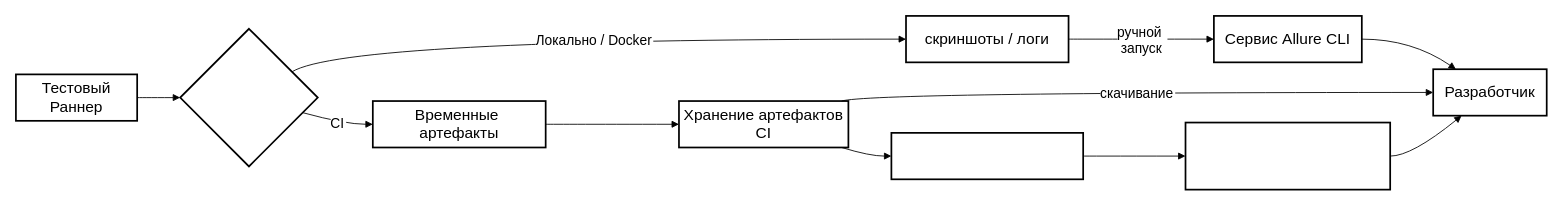
The diagram is 1562 pixels wide and 205 high, and some of its shapes have lost their labels. The shapes that lost their labels are listed below. From the top down, each one's centre as x and y in pixels, then its label:
At pixel 248 97: "Что запускается?".
At pixel 987 156: "Создание Allure отчета".
At pixel 1287 155: "Allure отчет (GitHub Pages / артефакт)".
